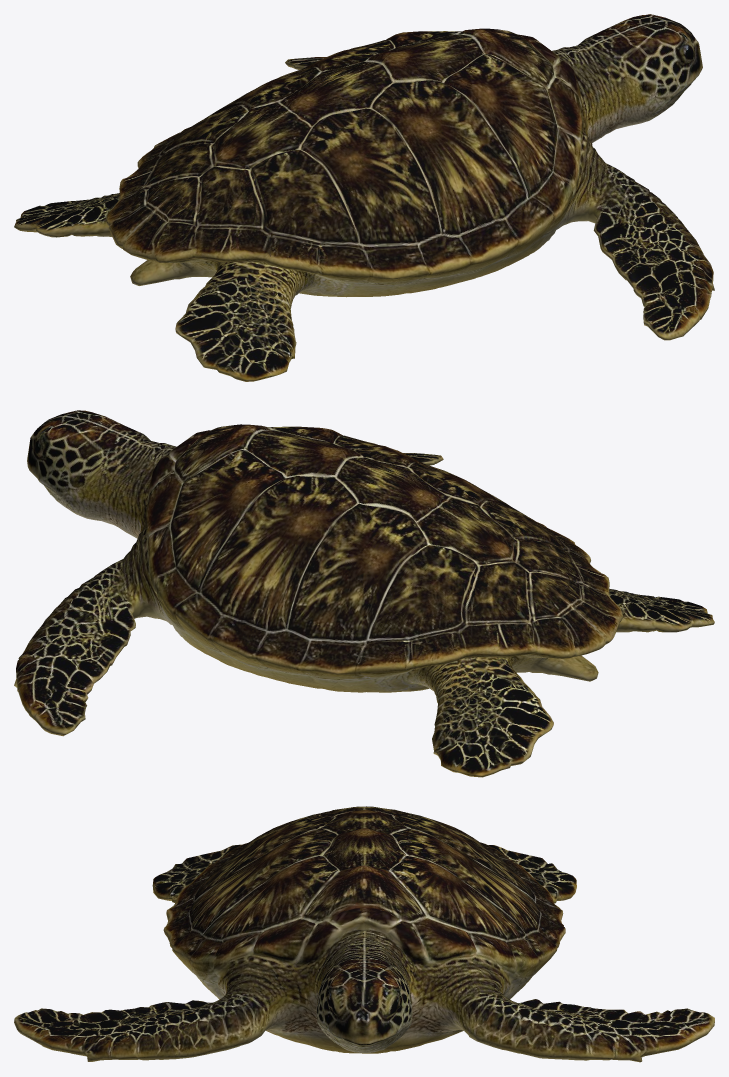
The model's file is turtle.glb.
3 renders of one model, top to bottom at view 1: azimuth 30°, elevation 25°; view 2: azimuth 150°, elevation 25°; view 3: azimuth 270°, elevation 25°, orthographic. The views are drawn at different scales.
Parts seen in each view (by area): view 1: tripo_node_5f1a0c7b-1302-4979-8a7b-4263c4bf040e; view 2: tripo_node_5f1a0c7b-1302-4979-8a7b-4263c4bf040e; view 3: tripo_node_5f1a0c7b-1302-4979-8a7b-4263c4bf040e.
Part boxes in pixels (x1,y1,x2,y2): tripo_node_5f1a0c7b-1302-4979-8a7b-4263c4bf040e: [14, 14, 714, 381]; tripo_node_5f1a0c7b-1302-4979-8a7b-4263c4bf040e: [14, 410, 714, 777]; tripo_node_5f1a0c7b-1302-4979-8a7b-4263c4bf040e: [14, 806, 714, 1062].
Size of the model in its own units: 0.902 by 0.2721 by 1.
Materials: 1 (1 with a texture image).
